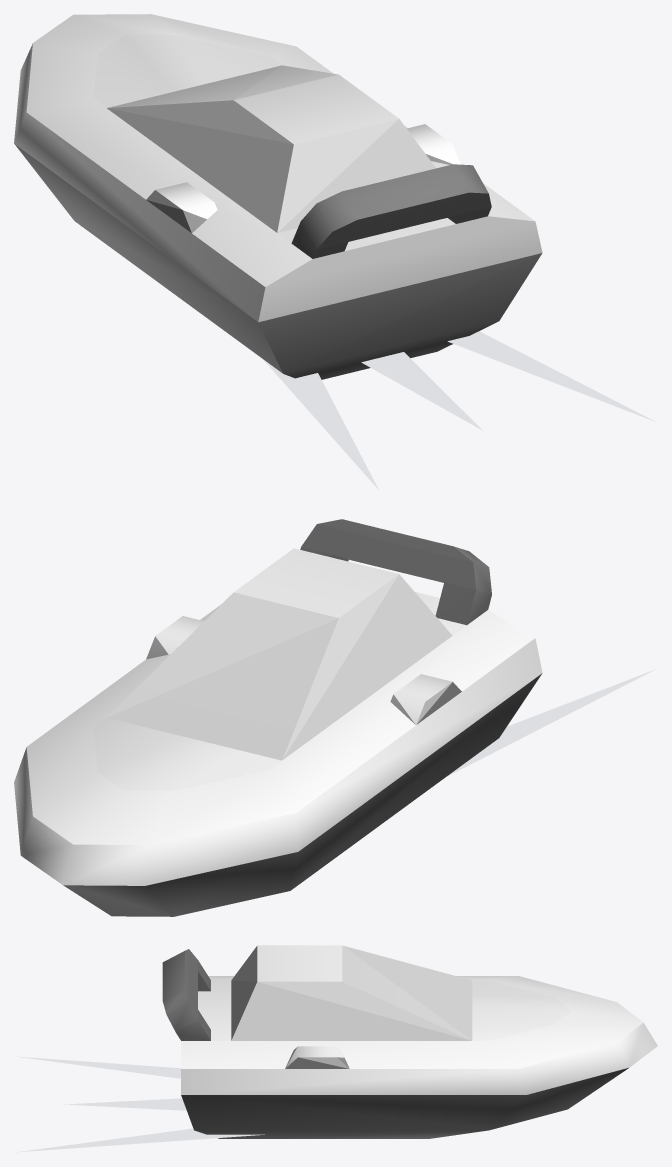
Rendered from cyan_skiff.glb.
3 views of the same model, one above another, from view 1: azimuth 30°, elevation 25°; view 2: azimuth 150°, elevation 25°; view 3: azimuth 270°, elevation 25° (orthographic). The views are drawn at different scales.
Parts seen in each view (by area): view 1: Body, Wake; view 2: Body, Wake; view 3: Body, Wake.
Part boxes in pixels (left/top/right/bottom): Body: left=14, top=14, right=542, bottom=379; Wake: left=263, top=331, right=656, bottom=489; Body: left=14, top=519, right=542, bottom=916; Wake: left=446, top=669, right=656, bottom=776; Body: left=162, top=945, right=657, bottom=1138; Wake: left=17, top=1056, right=264, bottom=1152.
Size of the model in its own units: 4.21 by 3.07 by 11.7.
3 materials, 1 textured.
